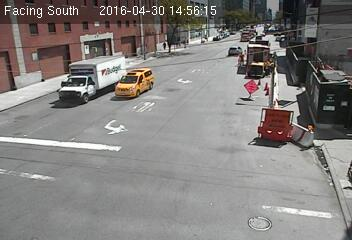neg: (296, 122, 318, 152), (264, 76, 282, 100), (243, 83, 259, 104), (129, 68, 144, 88)
pos: (235, 50, 248, 67), (160, 40, 168, 51)
